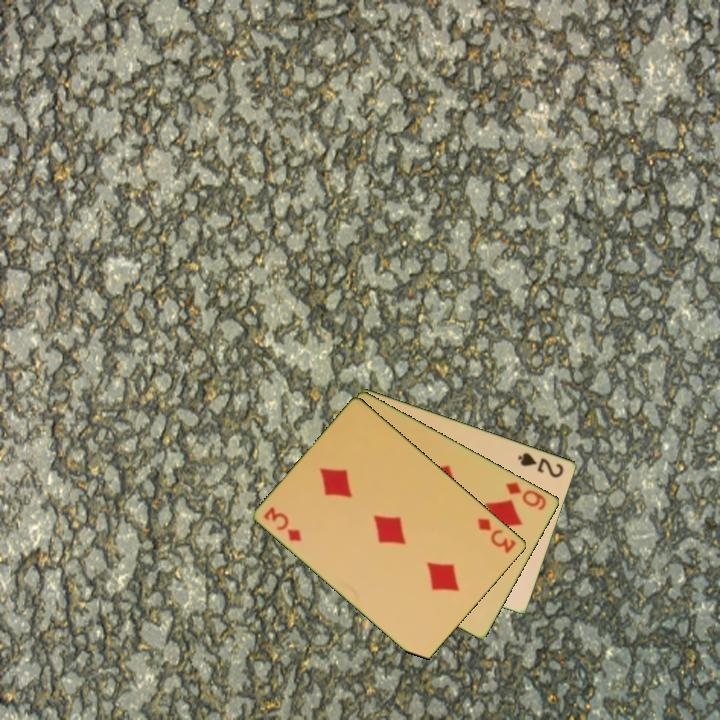2s: (514, 449, 567, 481)
3d: (474, 514, 519, 556), (260, 503, 305, 544)
6d: (502, 478, 550, 513)
